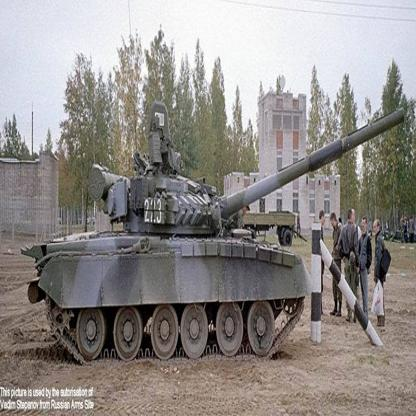Tank: (18, 98, 413, 366)
